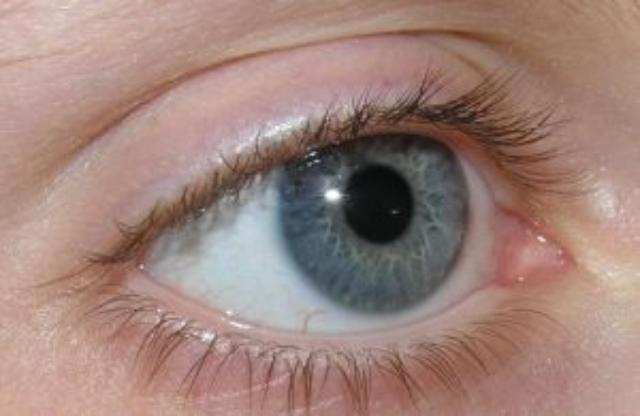eye: (276, 135, 468, 319)
